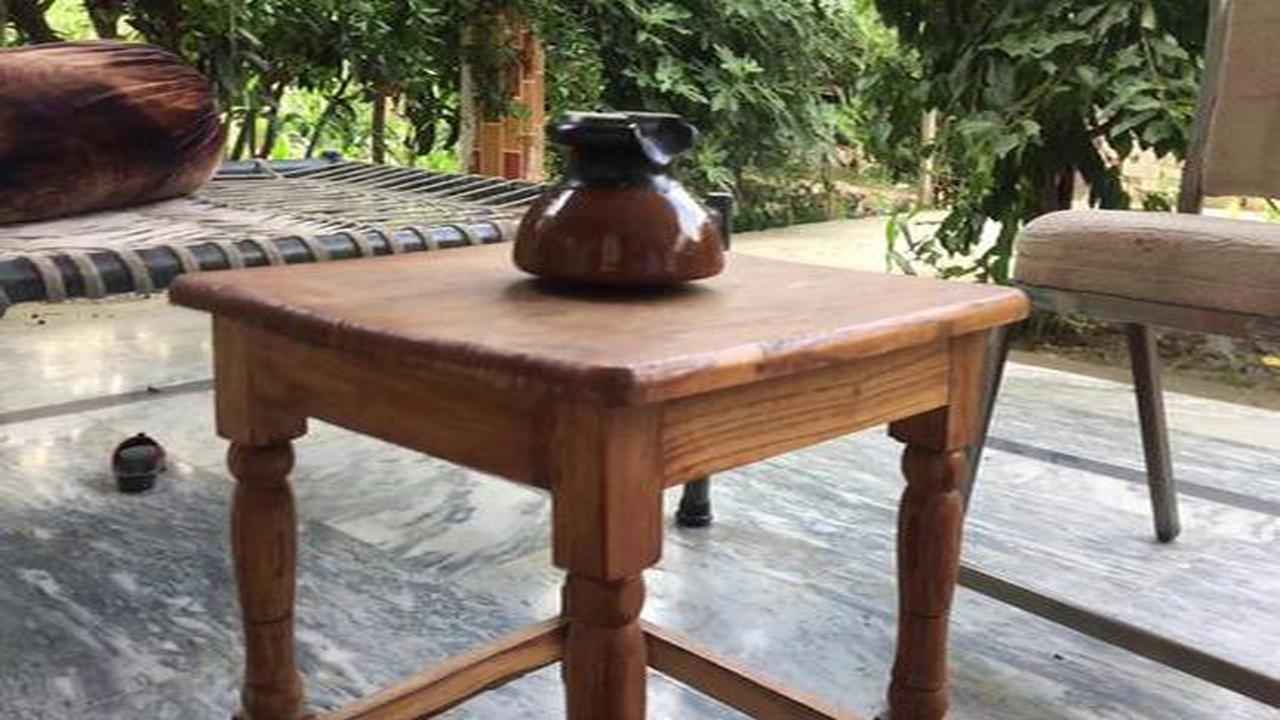insulator_pin: (493, 82, 745, 296)
